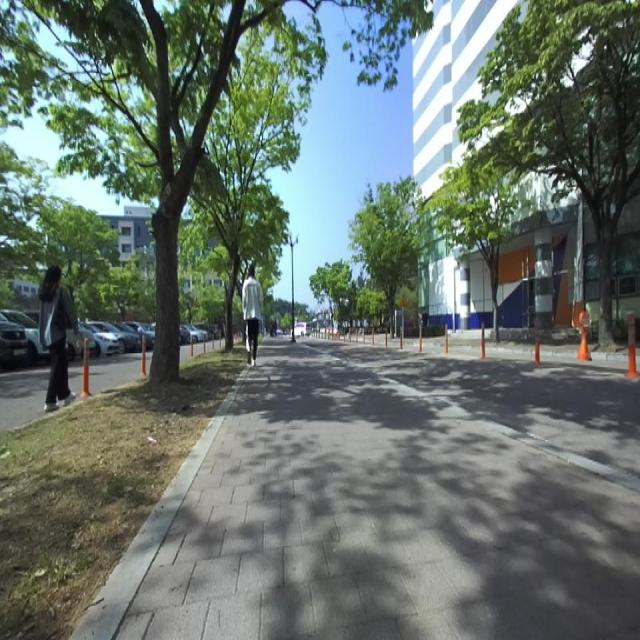sidewalk: (116, 340, 640, 639)
